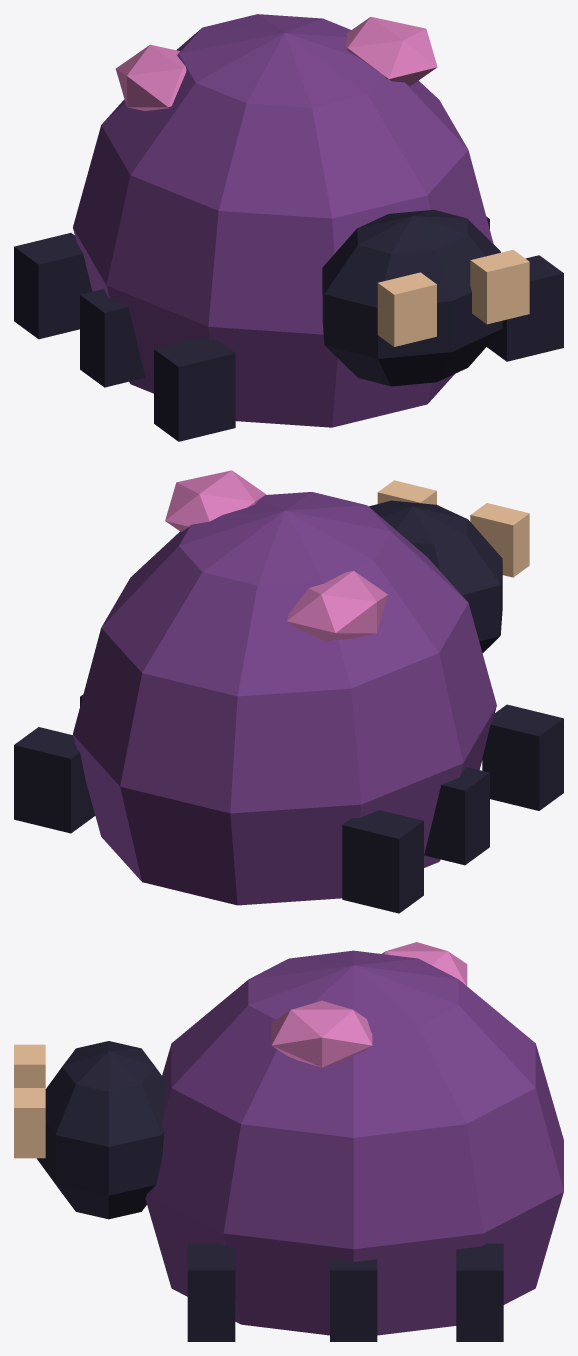
The model's file is shellbug.glb.
The picture shows the model from 3 angles, top to bottom: view 1: azimuth 30°, elevation 25°; view 2: azimuth 150°, elevation 25°; view 3: azimuth 270°, elevation 25°; orthographic projection. The views are drawn at different scales.
Visible parts, largest first — view 1: Bug; view 2: Bug; view 3: Bug.
Boxes of the visible parts, x1,y1,x2,y2 form: Bug: (14,14,563,441); Bug: (14,470,563,913); Bug: (14,942,563,1341).
Bounding box in the file's own units: 0.54 × 0.42 × 0.6963.
